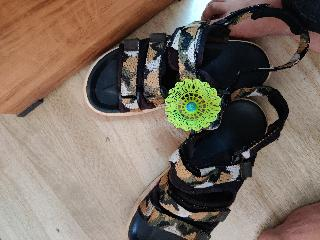shuttlecock: (164, 78, 218, 130)
